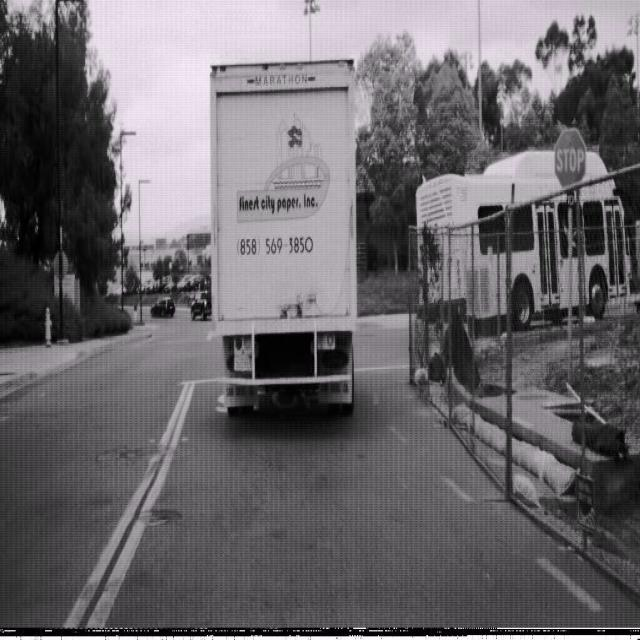stop_sign: (553, 125, 587, 190)
